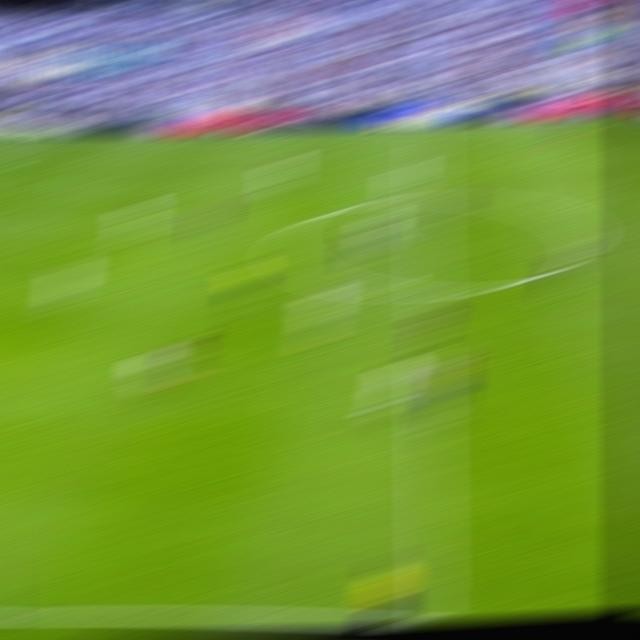halfcircle_bottom: (413, 276, 445, 304)
halfcircle_top: (412, 186, 444, 210)
midline_bottom_intersection: (412, 602, 449, 621)
midline_top_intersection: (412, 126, 443, 137)
